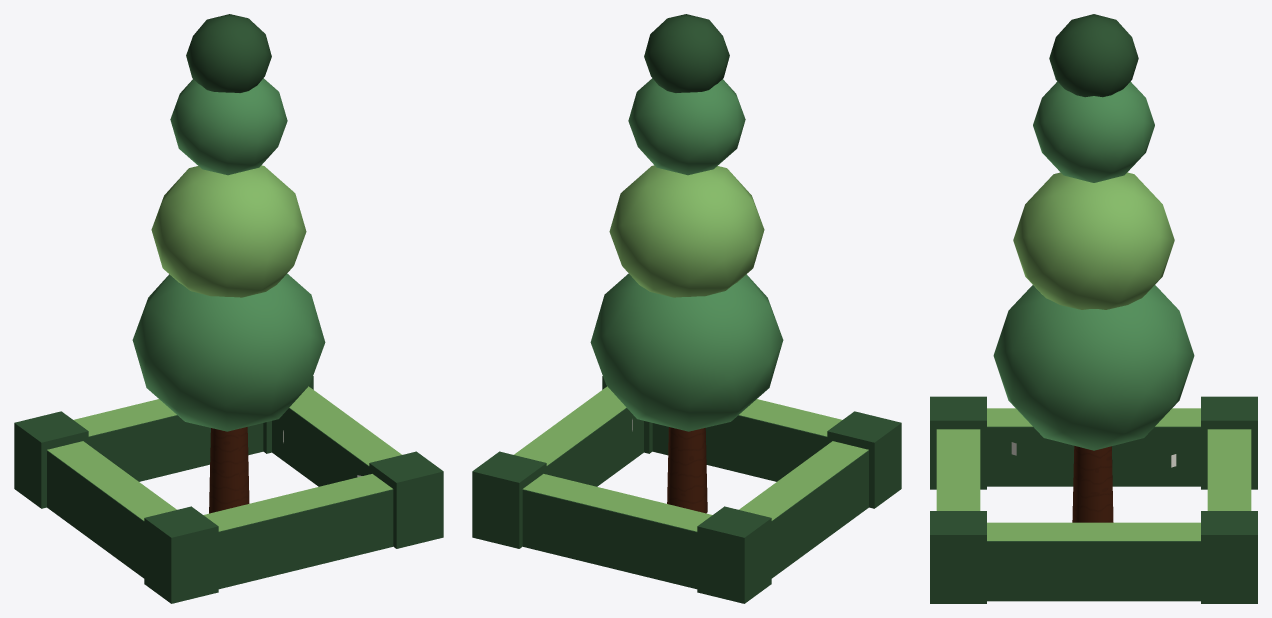
The model's file is garden-topiary.glb.
The picture shows the model from 3 angles, left to right: view 1: azimuth 30°, elevation 25°; view 2: azimuth 150°, elevation 25°; view 3: azimuth 270°, elevation 25°; orthographic projection. The views are drawn at different scales.
Visible parts, largest first — view 1: Merged_foliage-deep, Merged_foliage, Merged_foliage-light, Merged_bark; view 2: Merged_foliage-deep, Merged_foliage, Merged_foliage-light, Merged_bark; view 3: Merged_foliage-deep, Merged_foliage, Merged_foliage-light, Merged_bark.
Part boxes in pixels (x1,y1,x2,y2): Merged_foliage-deep: (14, 14, 443, 603); Merged_foliage: (132, 78, 325, 431); Merged_foliage-light: (47, 165, 401, 531); Merged_bark: (209, 427, 249, 513); Merged_foliage-deep: (472, 14, 901, 603); Merged_foliage: (590, 78, 783, 431); Merged_foliage-light: (514, 165, 868, 531); Merged_bark: (667, 427, 707, 513); Merged_foliage-deep: (930, 14, 1257, 603); Merged_foliage: (993, 81, 1194, 450); Merged_foliage-light: (936, 172, 1251, 540); Merged_bark: (1072, 446, 1113, 522).
Size of what is drawn, in the model's own units: 2.17 by 3.79 by 2.17.
Materials: 5 (1 with a texture image).
